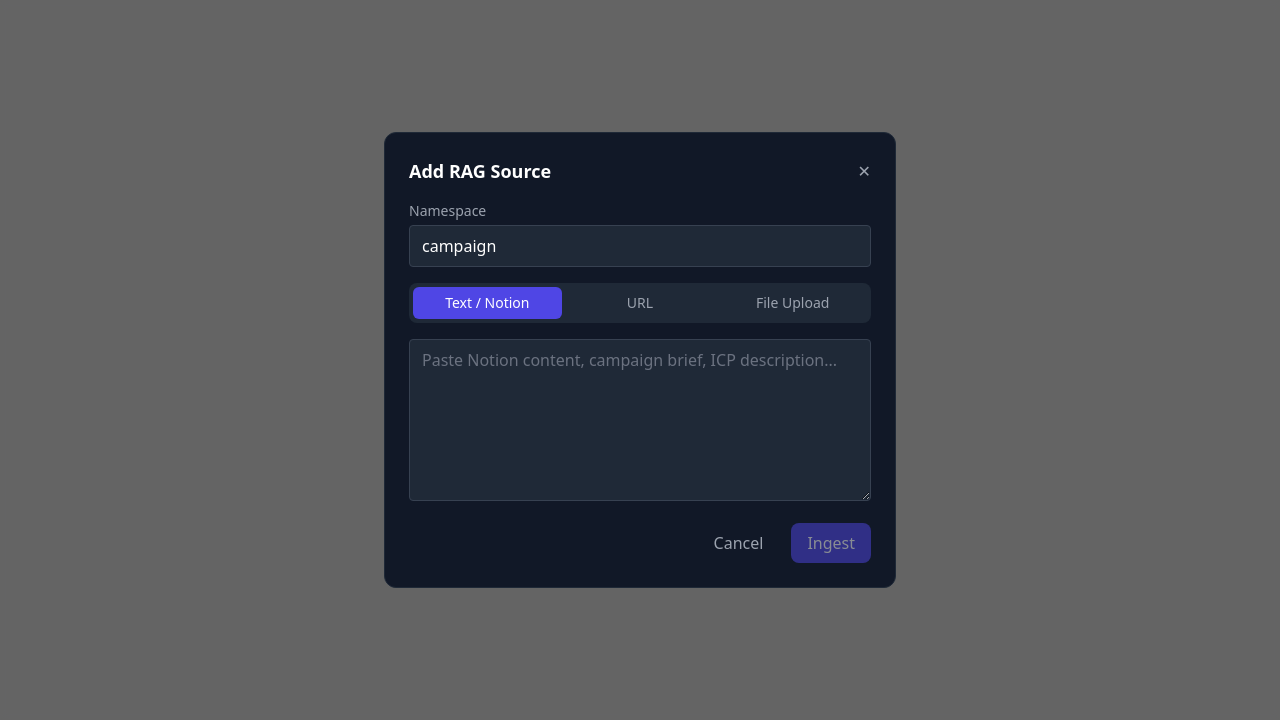
Test: RS2: Tab switching › shows url input after clicking URL tab
Click the button "URL".
click(640, 303)  # box 566,287 -> 714,319
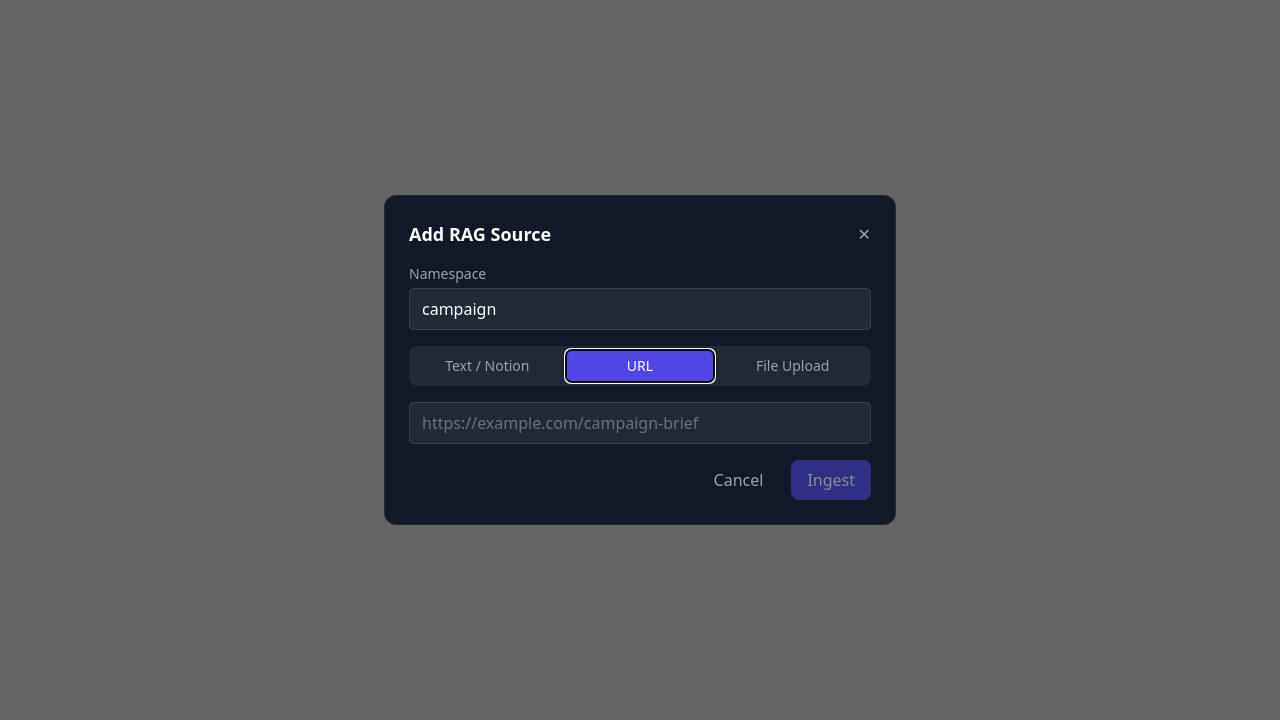
Check: the field named "url" is shown, box 409,402 -> 871,444
Check: the text box labelled "content" is gone
